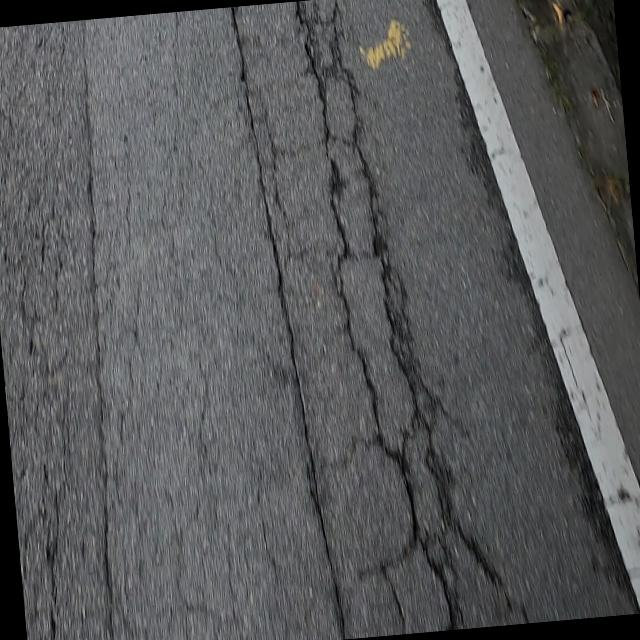Retak-Buaya: (291, 0, 531, 634), (0, 20, 113, 640)
Retak-Memanjang: (224, 6, 348, 639)
